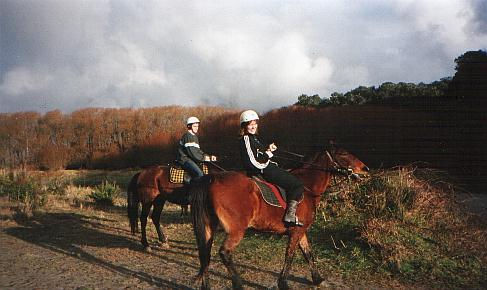person: (236, 112, 308, 229), (177, 116, 220, 209)
